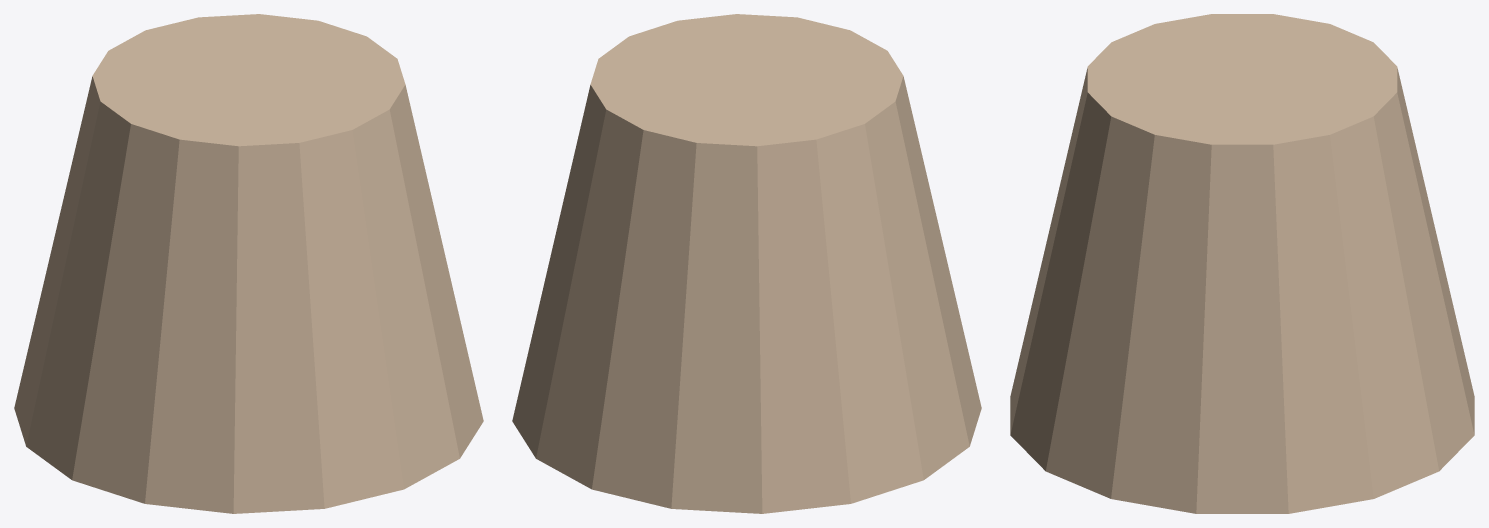
Rendered from adapter_s1p5_s1_collider.obj.
3 views of the same model, side by side, from view 1: azimuth 30°, elevation 25°; view 2: azimuth 150°, elevation 25°; view 3: azimuth 270°, elevation 25° (orthographic).
Parts seen in each view (by area): view 1: collider; view 2: collider; view 3: collider.
Boxes of the visible parts, x1,y1,x2,y2 form: collider: (14, 14, 483, 513); collider: (512, 14, 981, 513); collider: (1010, 14, 1474, 513).
Size of the model in its own units: 1.88 by 1.5 by 1.88.
